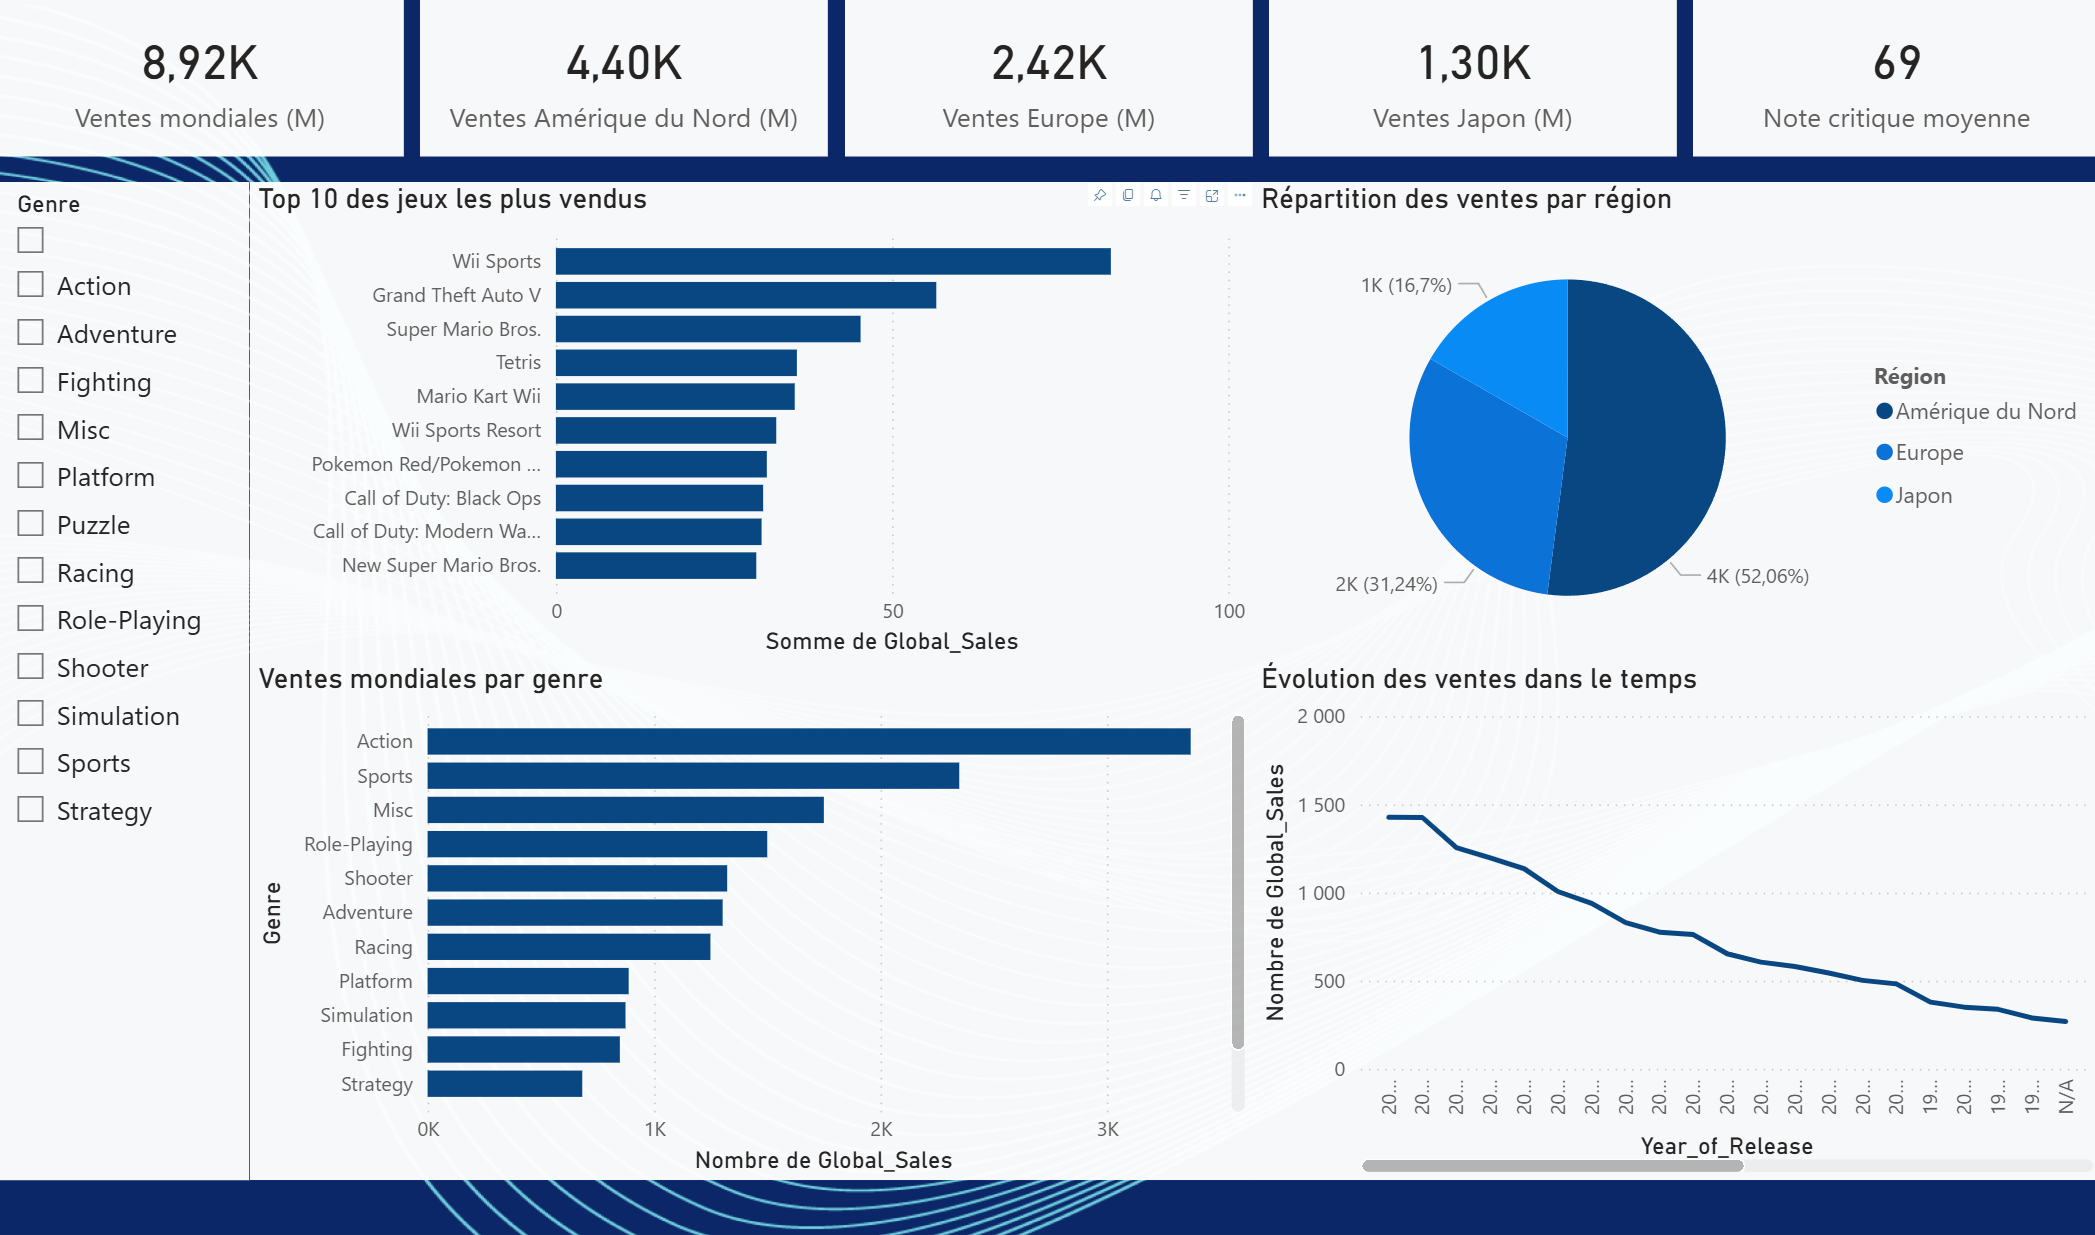

The dashboard page shown, as its layout file describes it:
{"tool":"powerbi","page":{"name":"Page 1","canvas":[1280,720],"ordinal":0},"visuals":[{"type":"clusteredBarChart","title":"Ventes mondiales par genre","fields":{"Category":["Video_Games_Sales_as_at_22_Dec_2016.Genre"],"Y":["CountNonNull(Video_Games_Sales_as_at_22_Dec_2016.Global_Sales)"]},"box":[154.4,404.4,609.9,315.4],"z":0},{"type":"lineChart","title":"Évolution des ventes dans le temps","fields":{"Category":["Video_Games_Sales_as_at_22_Dec_2016.Year_of_Release"],"Y":["CountNonNull(Video_Games_Sales_as_at_22_Dec_2016.Global_Sales)"]},"box":[764.3,404.4,515.7,315.4],"z":1000},{"type":"pieChart","title":"Répartition des ventes par région","fields":{"Category":["Ventes_Regions.Région"],"Y":["Sum(Ventes_Regions.Ventes)"]},"box":[764.3,112.6,515.7,291.9],"z":2000},{"type":"card","fields":{"Values":["Sum(Video_Games_Sales_as_at_22_Dec_2016.Global_Sales)"]},"box":[0,0,248,96.9],"z":3000},{"type":"card","fields":{"Values":["Sum(Video_Games_Sales_as_at_22_Dec_2016.NA_Sales)"]},"box":[258,0,248,96.9],"z":4000},{"type":"card","fields":{"Values":["Sum(Video_Games_Sales_as_at_22_Dec_2016.EU_Sales)"]},"box":[516.1,0,248,96.9],"z":5000},{"type":"card","fields":{"Values":["Avg(Video_Games_Sales_as_at_22_Dec_2016.Critic_Score)"]},"box":[1032.1,0,247.9,96.6],"z":6000},{"type":"card","fields":{"Values":["Sum(Video_Games_Sales_as_at_22_Dec_2016.JP_Sales)"]},"box":[774.1,0,248,96.9],"z":7000},{"type":"clusteredBarChart","title":"Top 10 des jeux les plus vendus","fields":{"Category":["Video_Games_Sales_as_at_22_Dec_2016.Name"],"Y":["Sum(Video_Games_Sales_as_at_22_Dec_2016.Global_Sales)"]},"box":[154.4,112.6,609.9,291.9],"z":8000},{"type":"slicer","fields":{"Values":["Video_Games_Sales_as_at_22_Dec_2016.Genre"]},"box":[0,112.6,154.4,607.3],"z":9000}]}

Visuals, with their boxes on the page's 1280x720 design canvas (x1, y1, x2, y2). These are canvas units, not pixel positions in the 2095x1235 screenshot, which may show the page scaled, cropped or inside an application window:
"Ventes mondiales par genre" clusteredBarChart: 154,404,764,720
"Évolution des ventes dans le temps" lineChart: 764,404,1280,720
"Répartition des ventes par région" pieChart: 764,113,1280,404
card - Sum(Video_Games_Sales_as_at_22_Dec_2016.Global_Sales): 0,0,248,97
card - Sum(Video_Games_Sales_as_at_22_Dec_2016.NA_Sales): 258,0,506,97
card - Sum(Video_Games_Sales_as_at_22_Dec_2016.EU_Sales): 516,0,764,97
card - Avg(Video_Games_Sales_as_at_22_Dec_2016.Critic_Score): 1032,0,1280,97
card - Sum(Video_Games_Sales_as_at_22_Dec_2016.JP_Sales): 774,0,1022,97
"Top 10 des jeux les plus vendus" clusteredBarChart: 154,113,764,404
slicer - Video_Games_Sales_as_at_22_Dec_2016.Genre: 0,113,154,720
